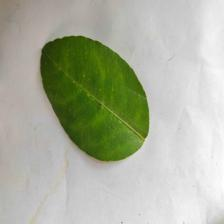healthy: (54, 56, 152, 160)
